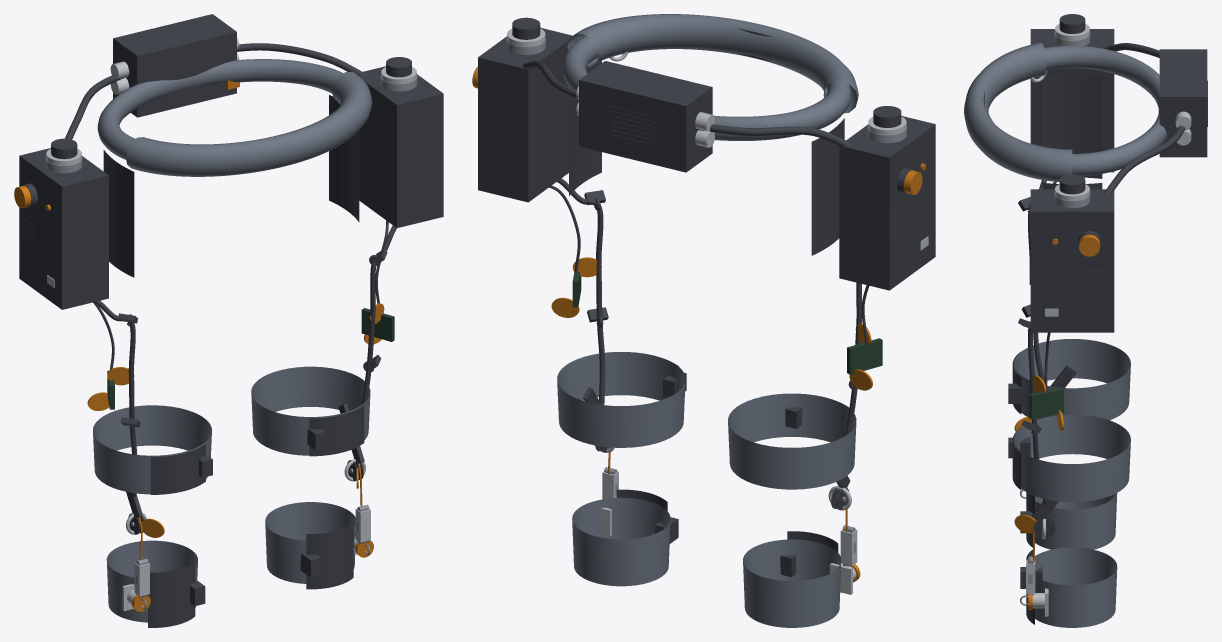
The model's file is exogait_assembly.glb.
The picture shows the model from 3 angles, left to right: view 1: azimuth 30°, elevation 25°; view 2: azimuth 150°, elevation 25°; view 3: azimuth 270°, elevation 25°; orthographic projection. The views are drawn at different scales.
Parts seen in each view (by area): view 1: pelvic_belt_108_lumbar_pad, pelvic_belt_108_webbing, L_ctrl_box_105_casing_wall_front, R_ctrl_box_105_casing_wall_front, L_ctrl_box_105_casing_wall_outer, R_ctrl_box_105_casing_wall_inner, battery_hub_101_enclosure_BAT04_wall_front, R_thigh_cuff_TEX01_pad, L_thigh_cuff_TEX01_pad, R_thigh_cuff_TEX01_band, L_thigh_cuff_TEX01_band, L_saddle_plate (+18 smaller); view 2: pelvic_belt_108_lumbar_pad, battery_hub_101_enclosure_BAT04_wall_rear, L_ctrl_box_105_casing_wall_rear, R_ctrl_box_105_casing_wall_rear, L_thigh_cuff_TEX01_band, R_thigh_cuff_TEX01_band, L_ctrl_box_105_casing_wall_outer, R_ctrl_box_105_casing_wall_inner, L_tibial_cuff_TEX02_band, R_tibial_cuff_TEX02_band, pelvic_belt_108_webbing, L_thigh_cuff_TEX01_pad (+13 smaller); view 3: R_ctrl_box_105_casing_wall_outer, pelvic_belt_108_lumbar_pad, pelvic_belt_108_webbing, R_thigh_cuff_TEX01_band, L_saddle_plate, R_tibial_cuff_TEX02_band, R_thigh_cuff_TEX01_pad, L_thigh_cuff_TEX01_band, L_thigh_cuff_TEX01_pad, L_tibial_cuff_TEX02_band, battery_hub_101_enclosure_BAT04_wall_outer, R_tibial_cuff_TEX02_pad (+14 smaller).
Part boxes in pixels (x1,y1,x2,y2): pelvic_belt_108_lumbar_pad: (125, 72, 372, 176); pelvic_belt_108_webbing: (97, 59, 342, 159); L_ctrl_box_105_casing_wall_front: (63, 176, 106, 309); R_ctrl_box_105_casing_wall_front: (398, 93, 441, 227); L_ctrl_box_105_casing_wall_outer: (19, 155, 64, 309); R_ctrl_box_105_casing_wall_inner: (359, 76, 399, 227); battery_hub_101_enclosure_BAT04_wall_front: (139, 31, 234, 116); R_thigh_cuff_TEX01_pad: (253, 369, 368, 411); L_thigh_cuff_TEX01_pad: (94, 408, 210, 449); R_thigh_cuff_TEX01_band: (251, 366, 370, 455); L_thigh_cuff_TEX01_band: (93, 405, 211, 494); L_saddle_plate: (103, 150, 134, 277); pelvic_belt_108_lumbar_pad: (567, 14, 858, 113); battery_hub_101_enclosure_BAT04_wall_rear: (581, 79, 684, 171); L_ctrl_box_105_casing_wall_rear: (841, 146, 887, 289); R_ctrl_box_105_casing_wall_rear: (480, 57, 525, 201); L_thigh_cuff_TEX01_band: (728, 393, 856, 489); R_thigh_cuff_TEX01_band: (557, 351, 685, 447); L_ctrl_box_105_casing_wall_outer: (887, 124, 935, 290); R_ctrl_box_105_casing_wall_inner: (526, 36, 571, 202); L_tibial_cuff_TEX02_band: (743, 539, 841, 627); R_tibial_cuff_TEX02_band: (572, 497, 670, 586); pelvic_belt_108_webbing: (562, 35, 851, 140); L_thigh_cuff_TEX01_pad: (730, 397, 854, 441); R_ctrl_box_105_casing_wall_outer: (1030, 210, 1114, 332); pelvic_belt_108_lumbar_pad: (964, 42, 1072, 181); pelvic_belt_108_webbing: (1044, 45, 1166, 176); R_thigh_cuff_TEX01_band: (1014, 414, 1130, 501); L_saddle_plate: (1042, 73, 1102, 178); R_tibial_cuff_TEX02_band: (1035, 547, 1117, 627); R_thigh_cuff_TEX01_pad: (1015, 417, 1129, 458); L_thigh_cuff_TEX01_band: (1014, 339, 1130, 420); L_thigh_cuff_TEX01_pad: (1015, 342, 1129, 382); L_tibial_cuff_TEX02_band: (1035, 493, 1117, 549); battery_hub_101_enclosure_BAT04_wall_outer: (1159, 96, 1207, 157); R_tibial_cuff_TEX02_pad: (1035, 551, 1115, 585).
Size of the model in its own units: 0.539 by 0.649 by 0.2855.
